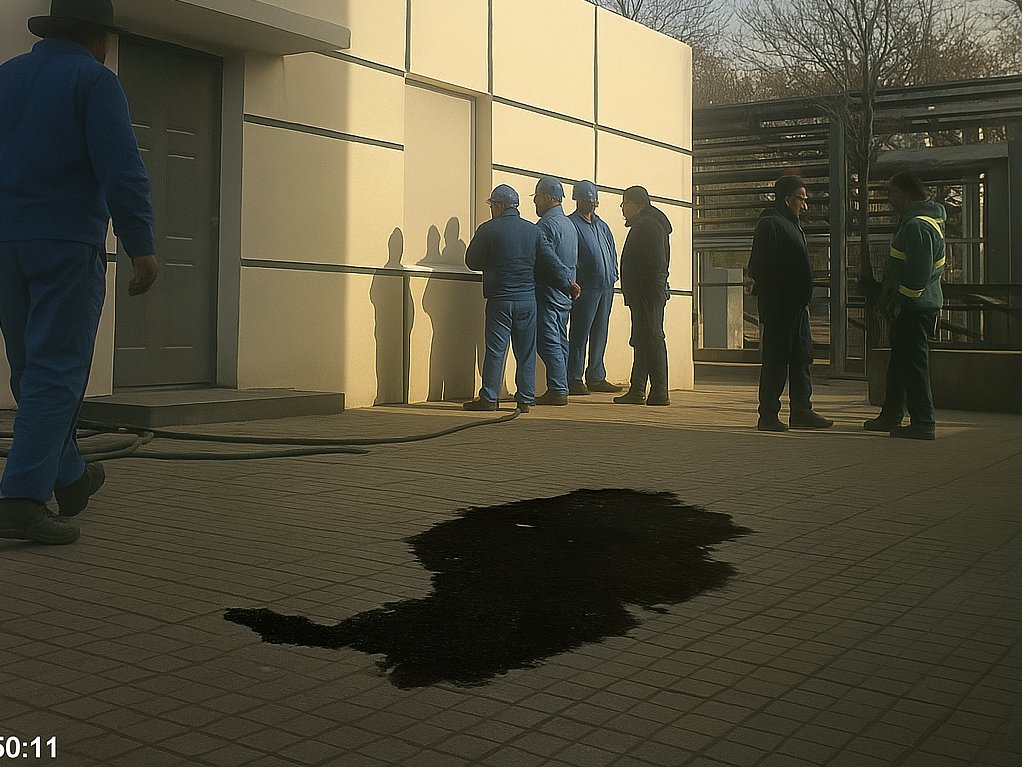oil_leakage: (206, 472, 768, 702)
